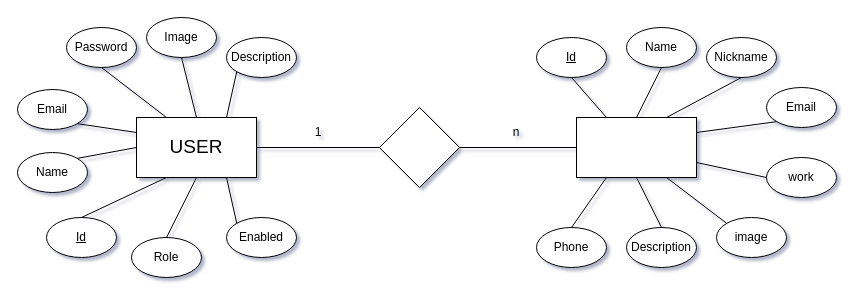
This 860x301 diagram has some shape labels left out. Here are the shapes that lost their labels. From the top down, the box of each, then its label:
(378, 106, 460, 188): has
(576, 116, 696, 178): CONTACT
